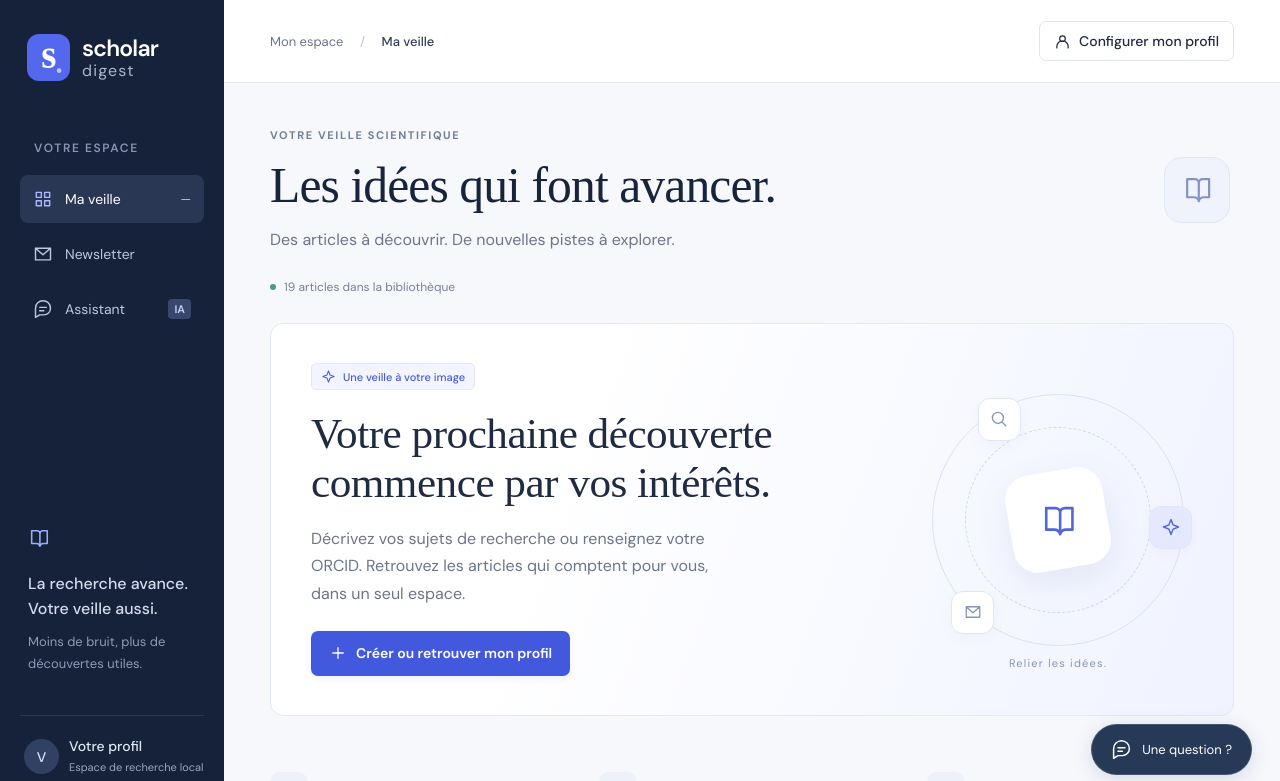
Test: research workspace › creates a profile from interests and displays real returned articles
Click the button "Créer ou retrouver mon profil" at (441, 653), box top-left (311, 631), bottom-right (570, 676)
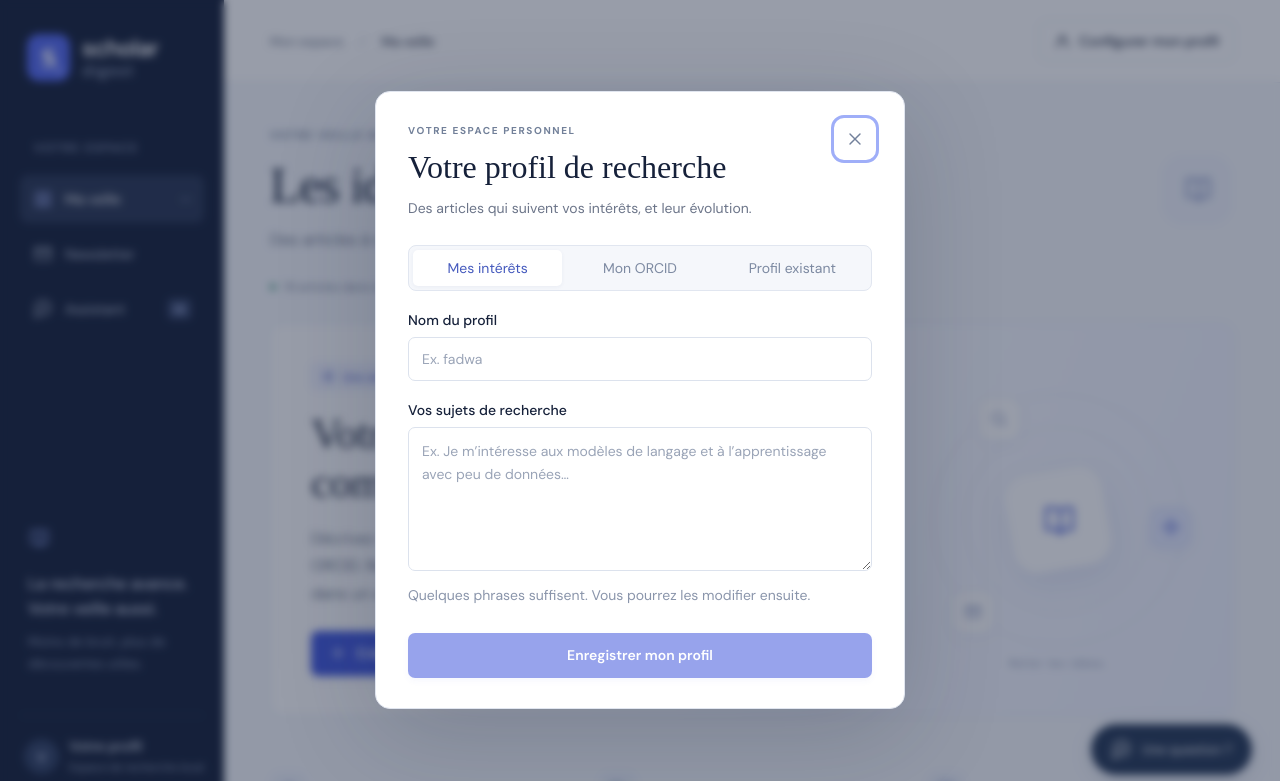
Type "alice" into the field labelled "Nom du profil" at (640, 358), box top-left (408, 336), bottom-right (872, 380)
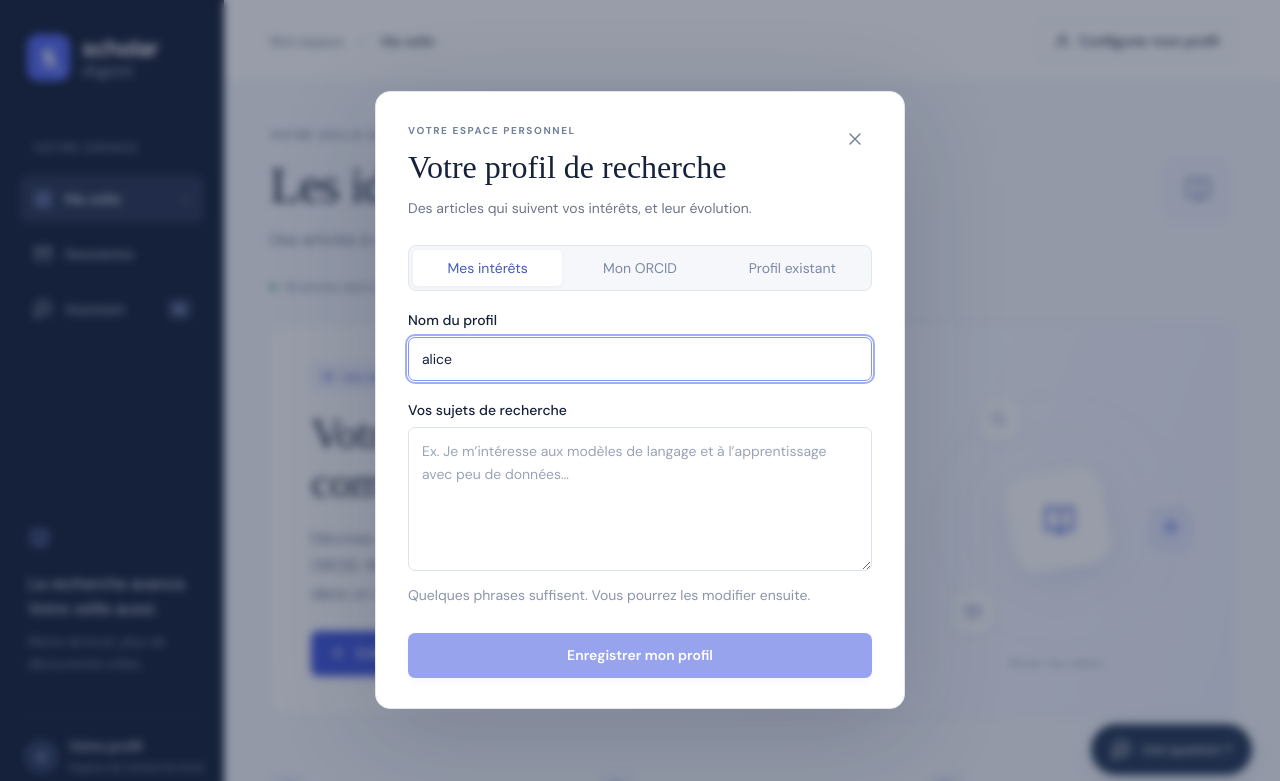
Type "Language models" into the text box labelled "Vos sujets de recherche" at (640, 499), box top-left (408, 426), bottom-right (872, 572)
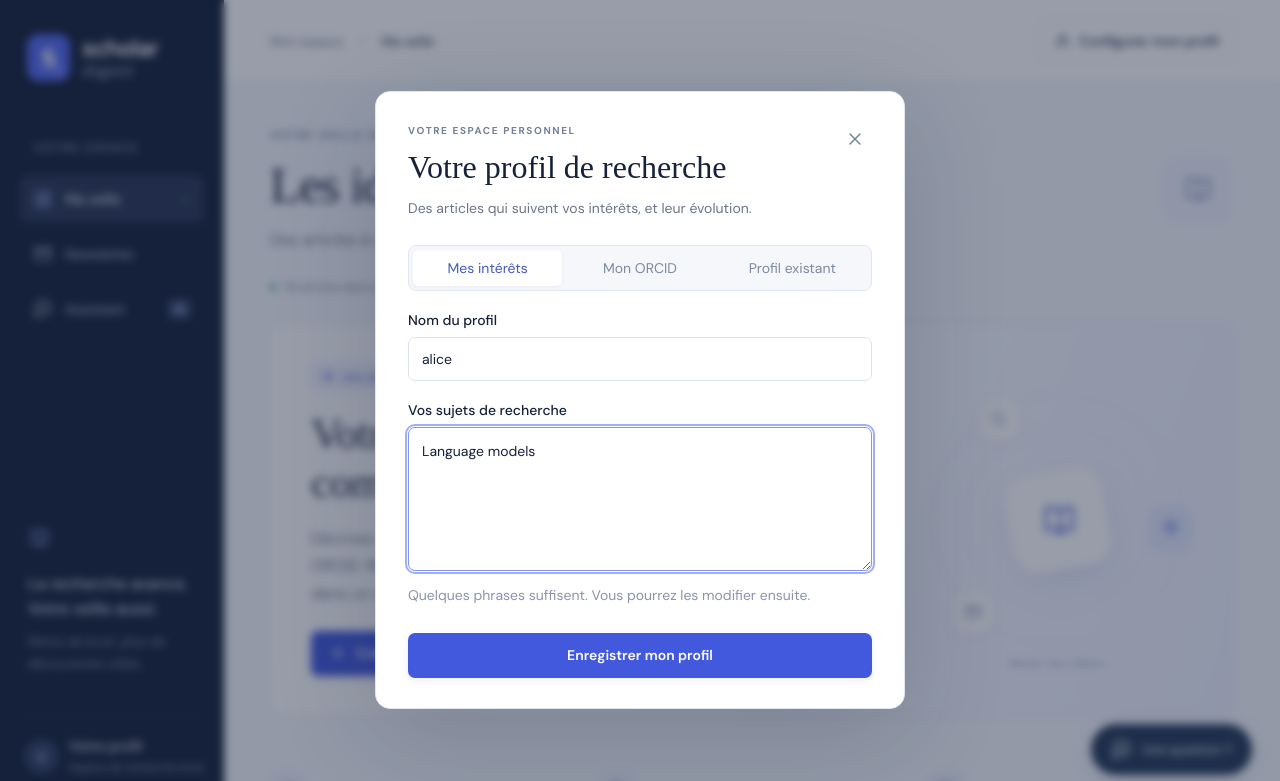
Click the button "Enregistrer mon profil" at (640, 656), box top-left (408, 633), bottom-right (872, 678)
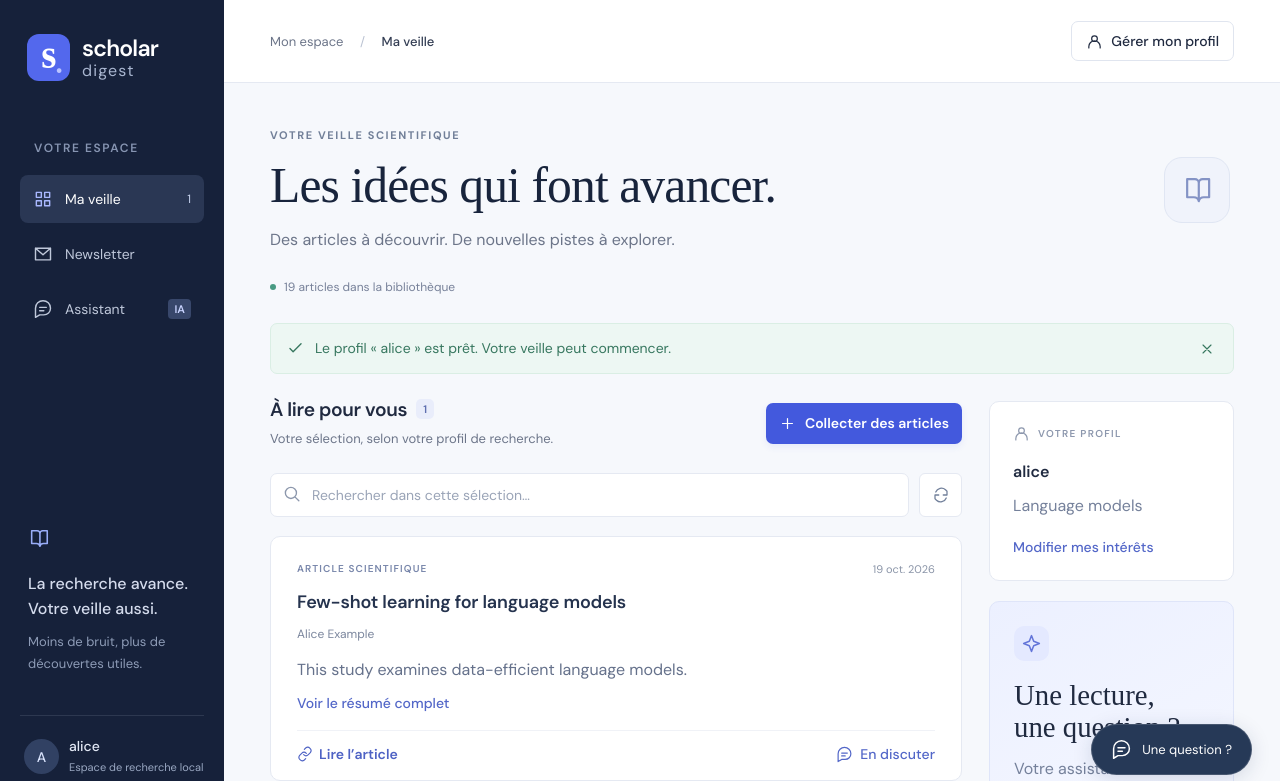
Check: the heading "Few-shot learning for language models" is shown, box top-left (297, 590), bottom-right (626, 614)
Check: the text "alice" is shown, box top-left (69, 737), bottom-right (100, 755)
